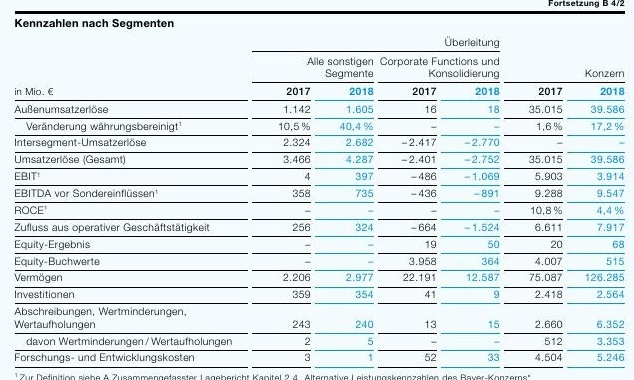table: (0, 0, 634, 380)
